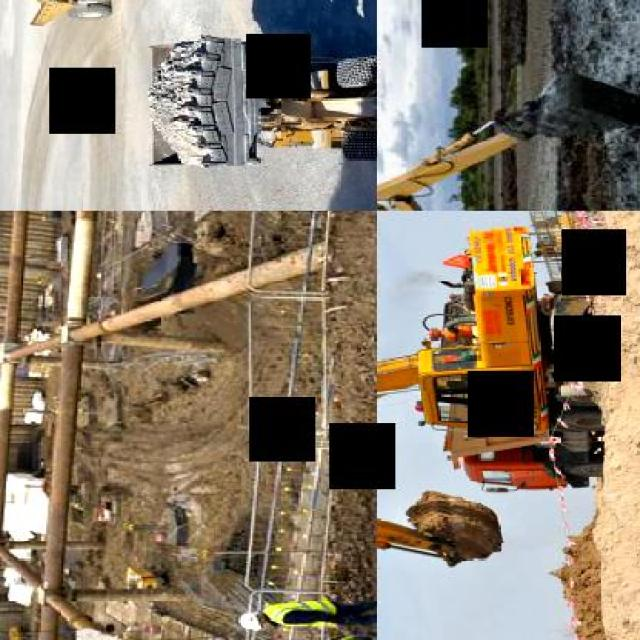buldozerpayloadergrader: (136, 39, 376, 172)
dump_truck: (17, 0, 132, 28)
excavator: (377, 222, 600, 568), (377, 68, 638, 209)
